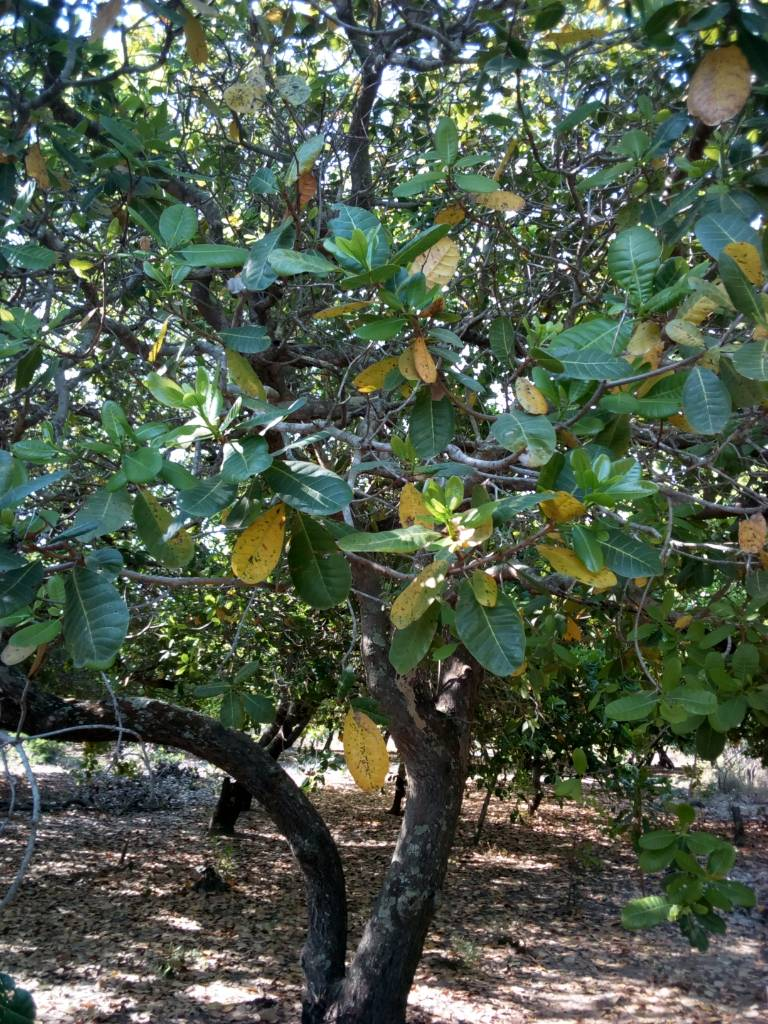Anthracnose: (335, 710, 391, 794), (233, 503, 286, 588)
